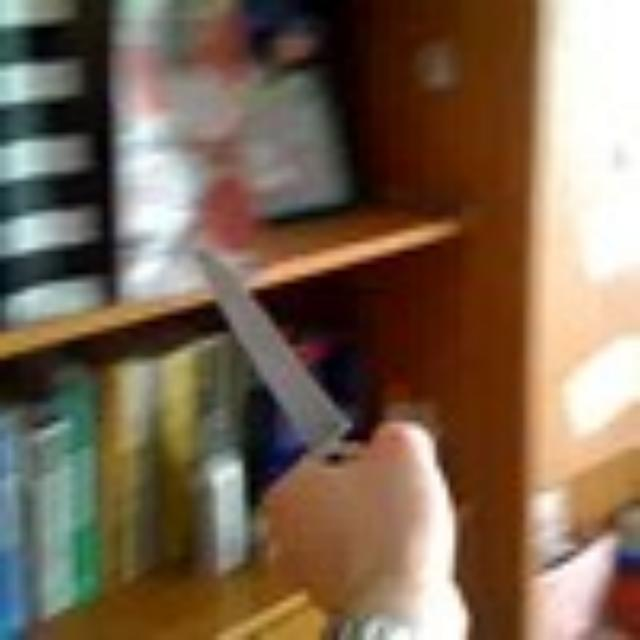pocket-knife: (169, 248, 377, 484)
